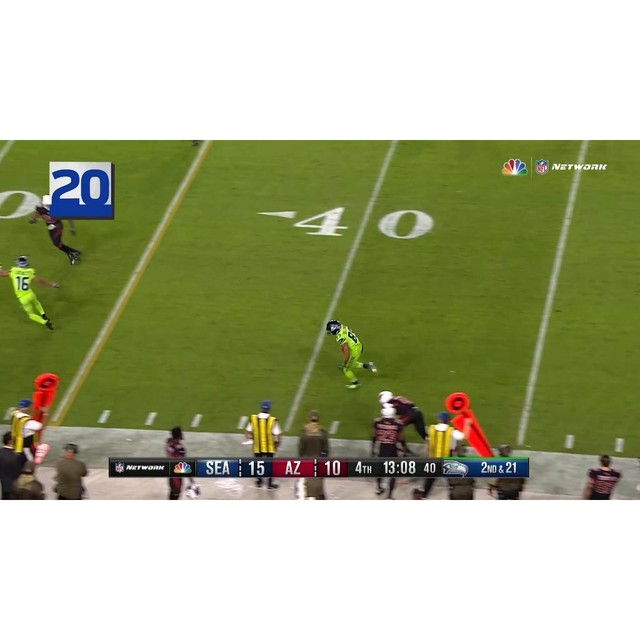american-football-player: (0, 253, 60, 332), (30, 194, 82, 266), (327, 319, 378, 388)
